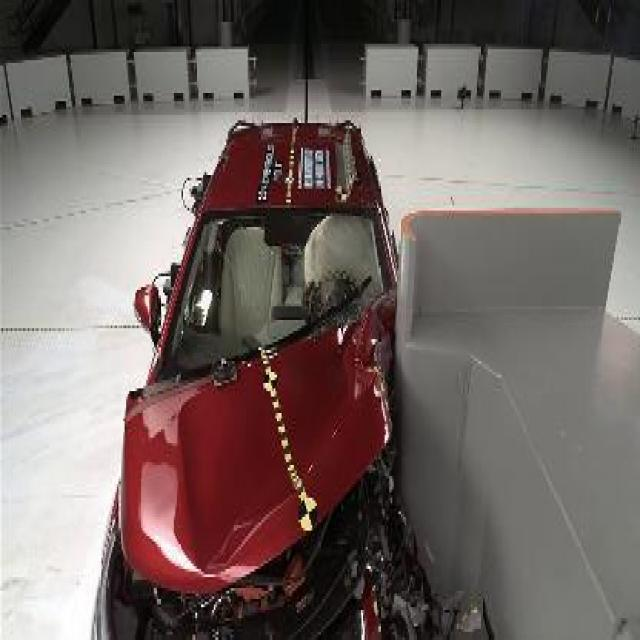accident: (84, 90, 522, 638)
